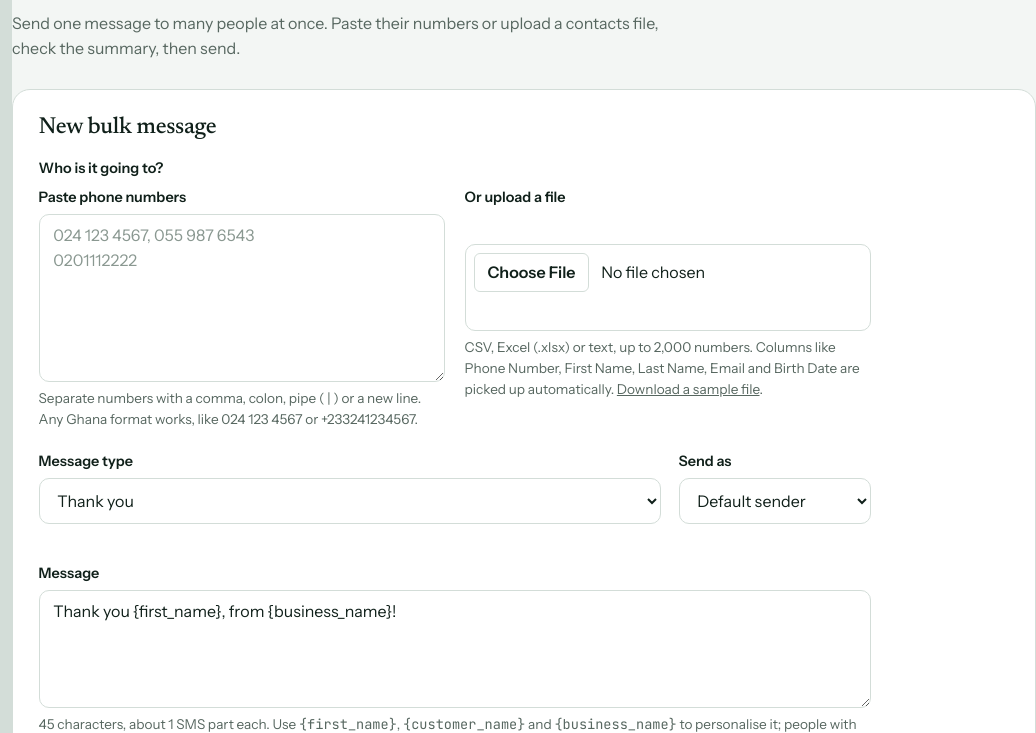
Scenario: BulkSend › reviews first: sends nothing, and shows the plan, cost and a sample
This screenshot has width=1036, height=733.
Step 1. Click the text box labelled "Paste phone numbers" → (242, 298), box x1=39 y1=214 x2=445 y2=382
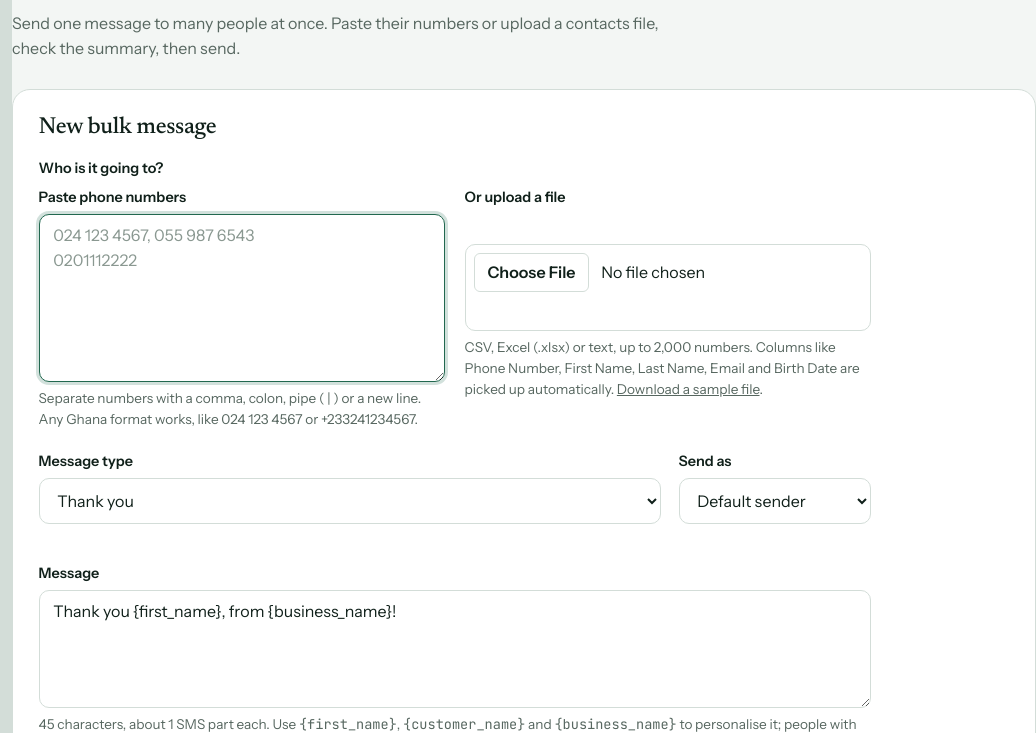
Step 2. Type keys "0241234567"
(page scrolled)
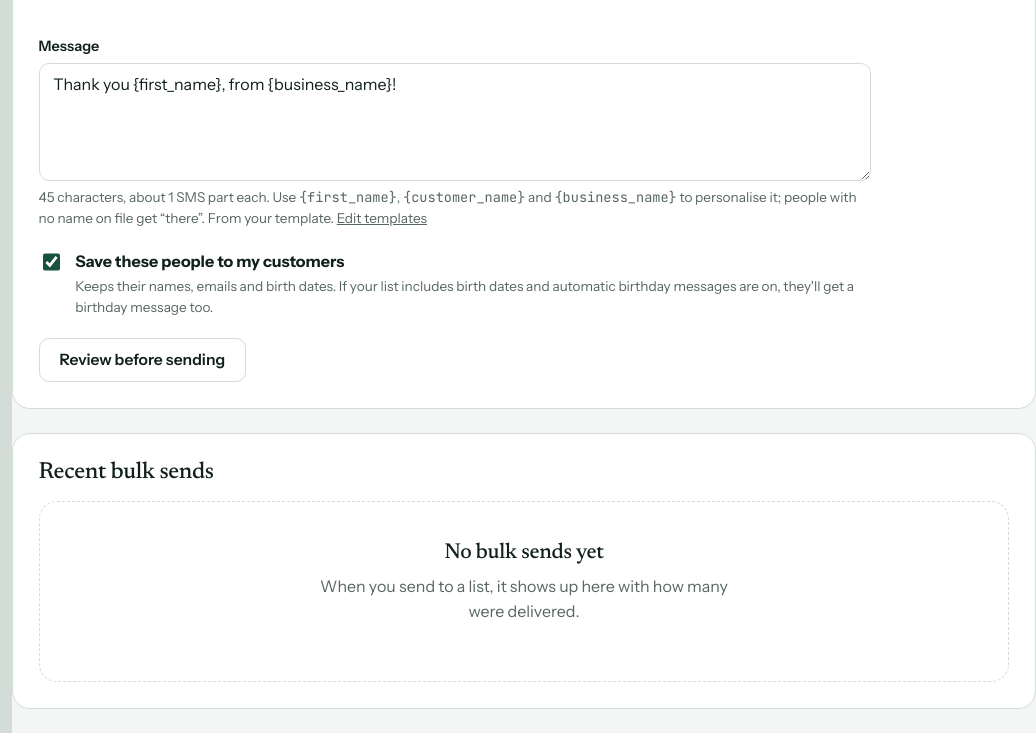
Step 3. Click the button "Review before sending" → (142, 360), box x1=39 y1=338 x2=246 y2=382
(page scrolled)
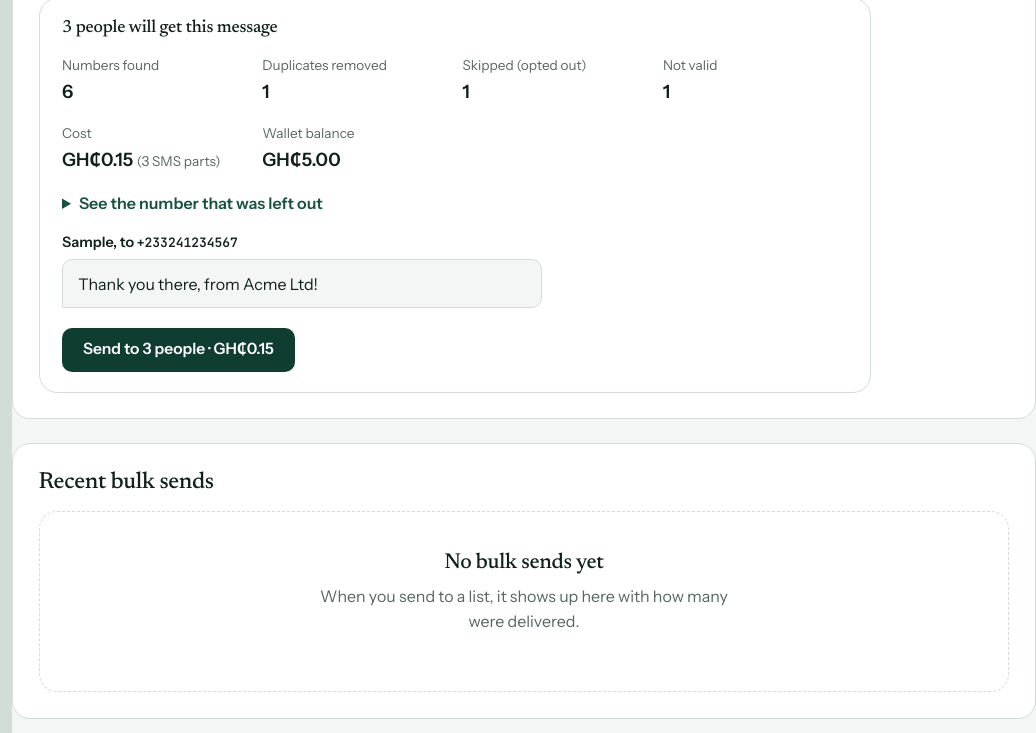
Result: the heading "3 people will get this message" is shown at x1=62 y1=19 x2=277 y2=37
Result: the text "Thank you there, from Acme Ltd!" is shown at x1=62 y1=259 x2=542 y2=308
Result: the text "Duplicates removed" is shown at x1=262 y1=57 x2=387 y2=73
